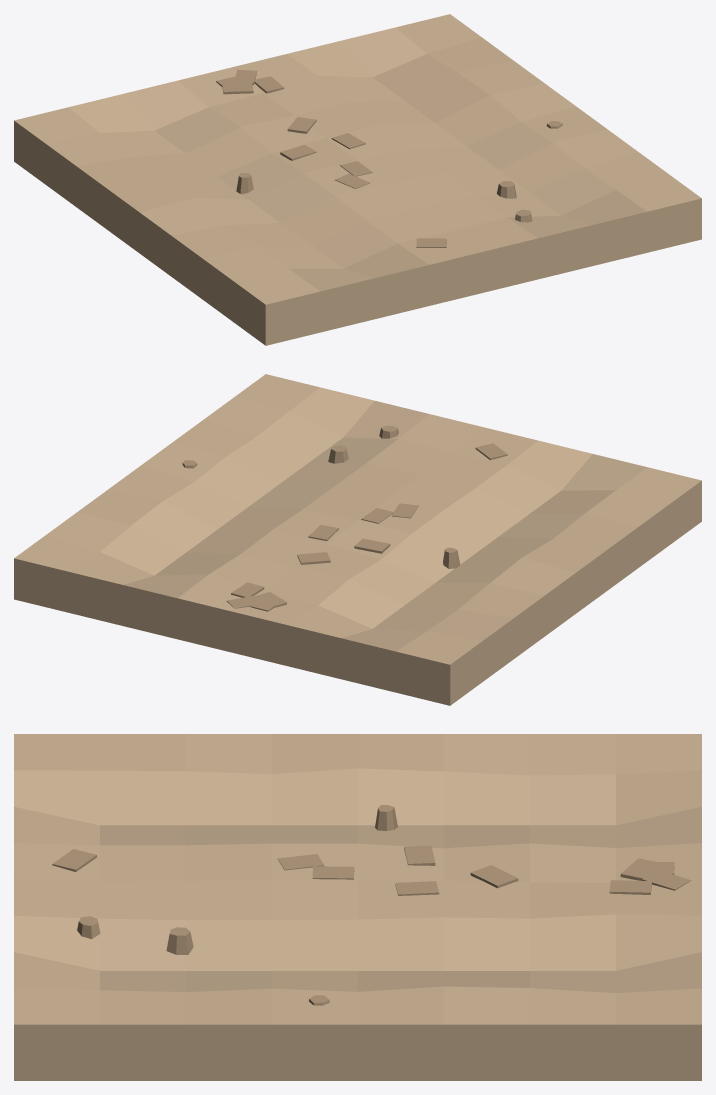
File: SM_Ground_Road_Tracks.glb
3 renders of one model, top to bottom at view 1: azimuth 30°, elevation 25°; view 2: azimuth 150°, elevation 25°; view 3: azimuth 270°, elevation 25°, orthographic. The views are drawn at different scales.
Parts seen in each view (by area): view 1: SM_Ground_Road_Tracks; view 2: SM_Ground_Road_Tracks; view 3: SM_Ground_Road_Tracks.
Boxes of the visible parts, x1,y1,x2,y2 form: SM_Ground_Road_Tracks: (14, 14, 701, 345); SM_Ground_Road_Tracks: (14, 374, 701, 705); SM_Ground_Road_Tracks: (14, 734, 701, 1080).
Bounding box in the file's own units: 2 × 0.1917 × 2.
